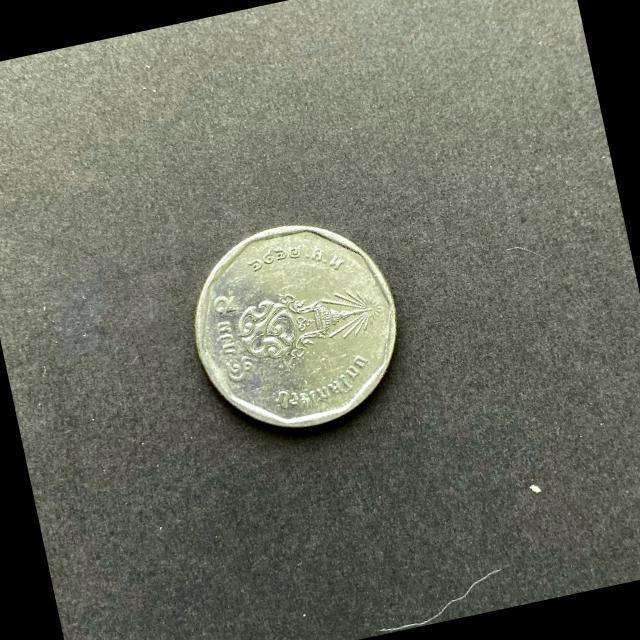5 Bath: (193, 224, 399, 434)
